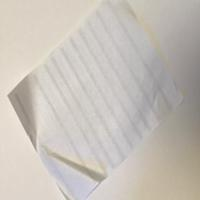paper: (6, 0, 185, 200)
